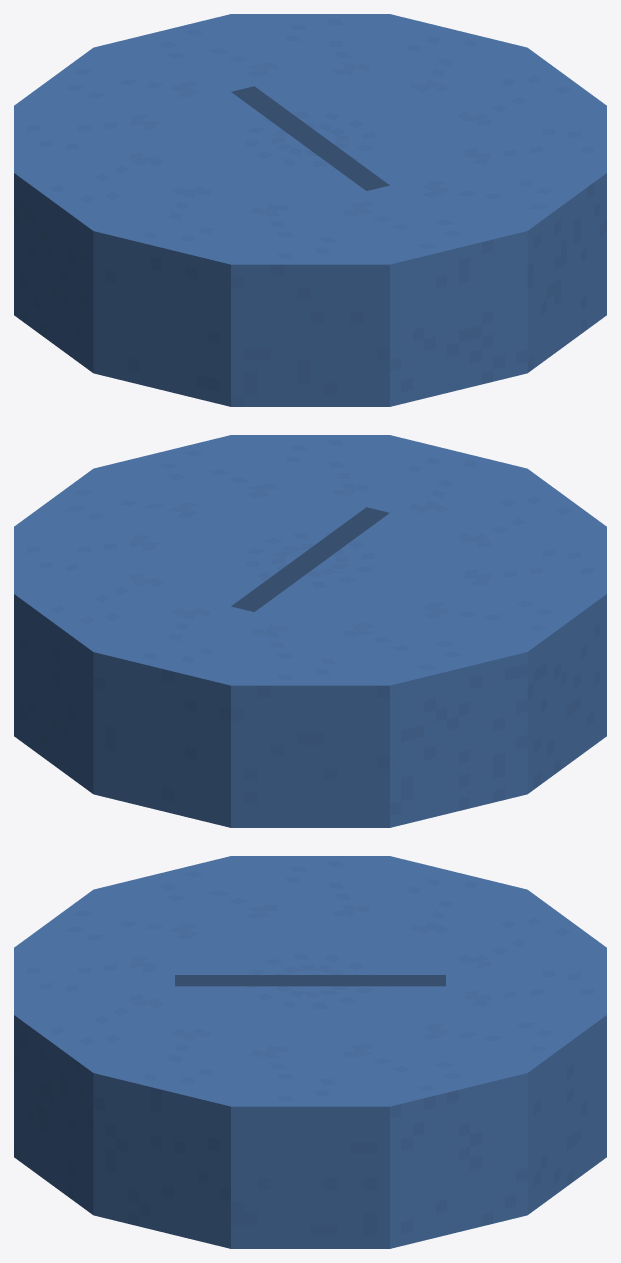
The model's file is prussian_blue.glb.
3 views of the same model, one above another, from view 1: azimuth 30°, elevation 25°; view 2: azimuth 150°, elevation 25°; view 3: azimuth 270°, elevation 25° (orthographic).
Parts seen in each view (by area): view 1: block_pressed tablet, block_score; view 2: block_pressed tablet, block_score; view 3: block_pressed tablet, block_score.
Part boxes in pixels (box(x1,y1,x2,y2)): block_pressed tablet: box(14, 14, 606, 406); block_score: box(231, 86, 389, 190); block_pressed tablet: box(14, 435, 606, 827); block_score: box(231, 507, 389, 611); block_pressed tablet: box(14, 856, 606, 1248); block_score: box(175, 975, 445, 986).
Size of the model in its own units: 0.0145 by 0.00386 by 0.0145.
1 material, 1 textured.
